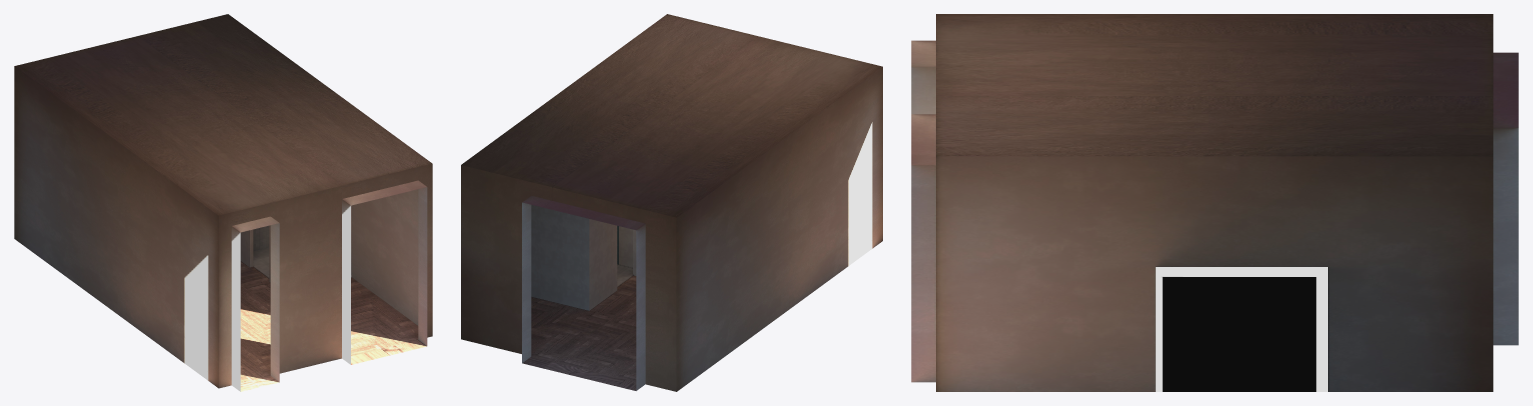
Rendered from Room2new.glb.
3 renders of one model, left to right at view 1: azimuth 30°, elevation 25°; view 2: azimuth 150°, elevation 25°; view 3: azimuth 270°, elevation 25°, orthographic. The views are drawn at different scales.
Visible parts, largest first — view 1: Room_Baked, Cube.001_Baked, Bad.Wände_Baked; view 2: Room_Baked, Bad.Wände_Baked; view 3: Room_Baked, Bad.Wände_Baked.
Part boxes in pixels (<box>): Room_Baked: <box>14,14,432,391</box>; Cube.001_Baked: <box>253,225,269,278</box>; Bad.Wände_Baked: <box>240,205,351,282</box>; Room_Baked: <box>461,14,882,391</box>; Bad.Wände_Baked: <box>531,205,636,310</box>; Room_Baked: <box>911,14,1518,391</box>; Bad.Wände_Baked: <box>1155,267,1327,391</box>.
Size of the model in its own units: 6.11 by 4.72 by 11.01.
3 materials, 3 textured.
